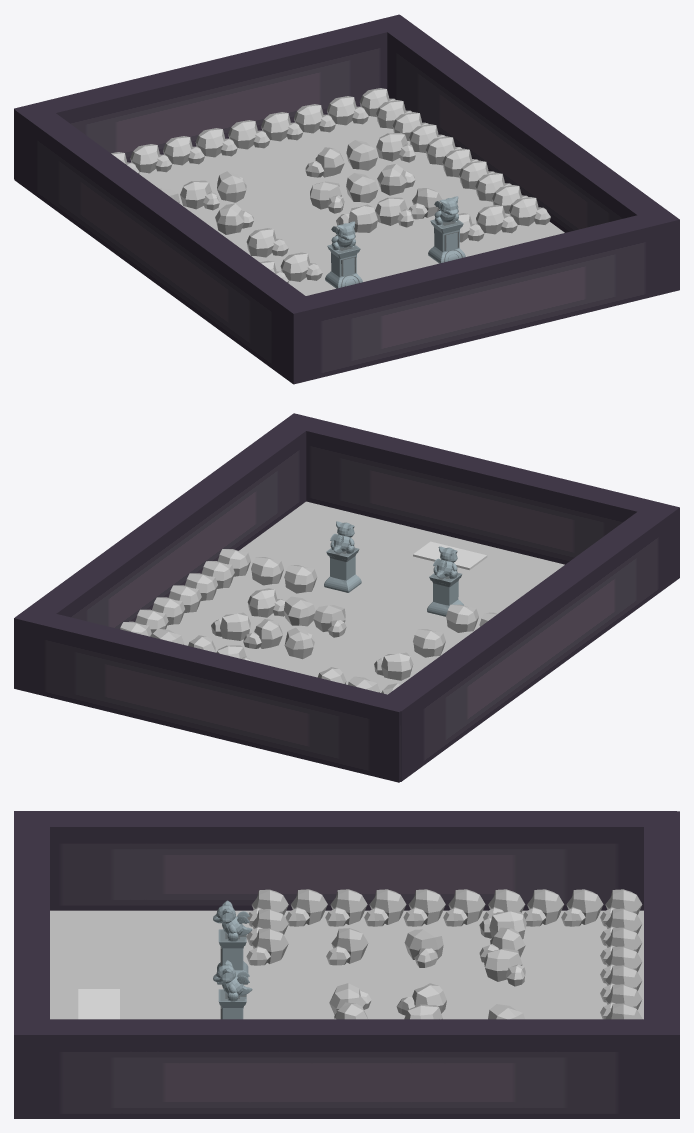
File: StoneGymTex.fbx
The picture shows the model from 3 angles, top to bottom: view 1: azimuth 30°, elevation 25°; view 2: azimuth 150°, elevation 25°; view 3: azimuth 270°, elevation 25°; orthographic projection. The views are drawn at different scales.
Parts seen in each view (by area): view 1: StoneGym.001, StoneGymFloor, EstatuaStoneGym.001, EstatuaStoneGym, Pedra1.038, Pedra1.042, Pedra1.036, Pedra1.024, Pedra1.019, Pedra1.047, Pedra1.032, Pedra1.018 (+23 smaller); view 2: StoneGym.001, StoneGymFloor, EstatuaStoneGym, EstatuaStoneGym.001, Tapete..001, Pedra1.021, Pedra1.033, Pedra1.039, Pedra1.049, Pedra1.034, Pedra1.032, Pedra1.023 (+9 smaller); view 3: StoneGym.001, StoneGymFloor, EstatuaStoneGym.001, EstatuaStoneGym, Tapete..001, Pedra1.041, Pedra1.039, Pedra1.004, Pedra1.005, Pedra1.009, Pedra1.002, Pedra1.003 (+19 smaller).
Boxes of the visible parts, x1,y1,x2,y2 form: StoneGym.001: (14,14,679,384); StoneGymFloor: (139,116,564,295); EstatuaStoneGym.001: (325,221,362,288); EstatuaStoneGym: (428,196,465,263); Pedra1.038: (246,228,288,257); Pedra1.042: (180,180,219,210); Pedra1.036: (376,132,415,162); Pedra1.024: (375,197,413,227); Pedra1.019: (509,197,550,226); Pedra1.047: (476,205,517,234); Pedra1.032: (280,252,322,281); Pedra1.018: (327,96,368,125); StoneGym.001: (14,413,679,782); StoneGymFloor: (166,501,564,692); EstatuaStoneGym: (324,521,361,592); EstatuaStoneGym.001: (427,546,463,616); Tapete..001: (413,541,487,570); Pedra1.021: (247,588,285,617); Pedra1.033: (211,612,250,640); Pedra1.039: (374,652,413,680); Pedra1.049: (313,605,346,637); Pedra1.034: (243,619,282,648); Pedra1.032: (446,604,478,632); Pedra1.023: (284,565,317,593); StoneGym.001: (14,811,679,1118); StoneGymFloor: (50,910,643,1019); EstatuaStoneGym.001: (213,900,252,984); EstatuaStoneGym: (213,960,252,1019); Tapete..001: (78,989,119,1019); Pedra1.041: (484,948,525,986); Pedra1.039: (404,929,443,967); Pedra1.004: (364,889,406,926); Pedra1.005: (403,889,445,926); Pedra1.009: (561,889,603,926); Pedra1.002: (285,889,327,926); Pedra1.003: (325,889,367,926).
Size of the model in its own units: 2160 by 383 by 2713.
